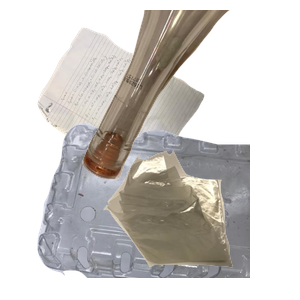glass: (80, 10, 300, 182)
paper: (35, 25, 232, 204)
plastic: (35, 120, 275, 300)
trash: (101, 148, 300, 300)
